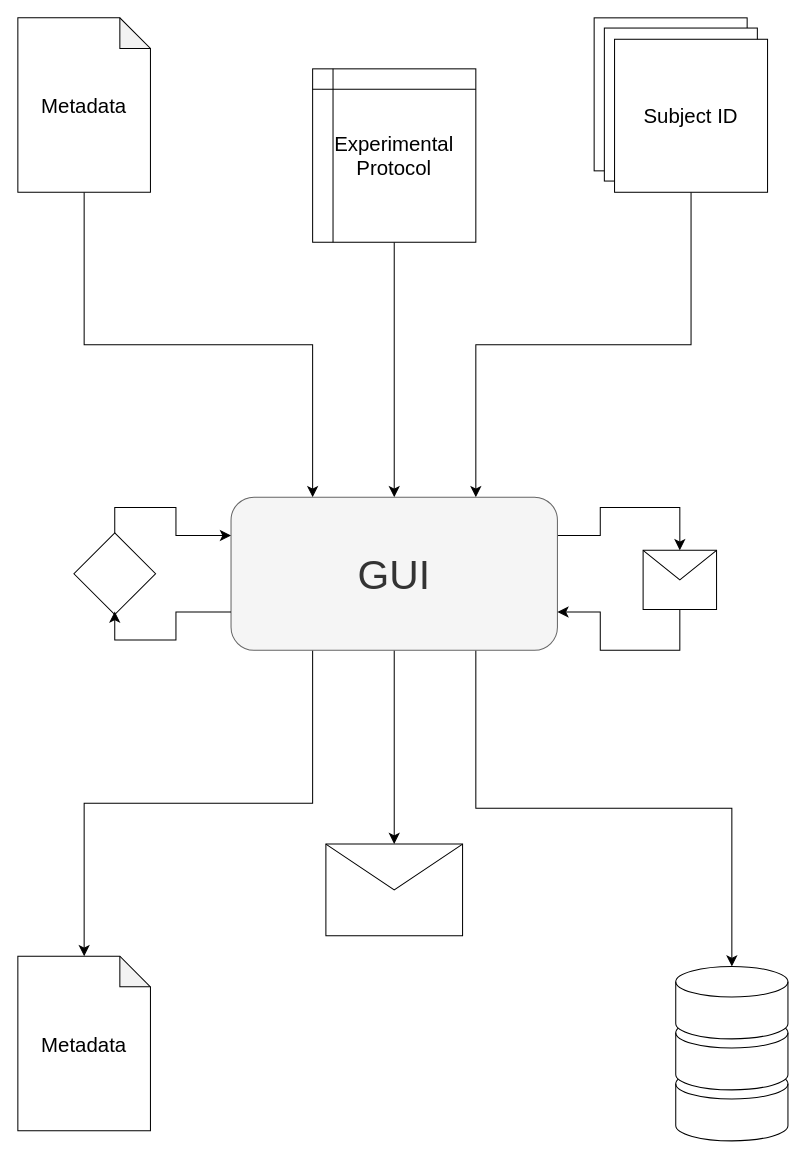
The diagram is 806 pixels wide and 1159 high, and some of its shapes have lost their labels. Each missing label, with the centre of its shape:
Instructions: [679,579]
Task: [114,573]
